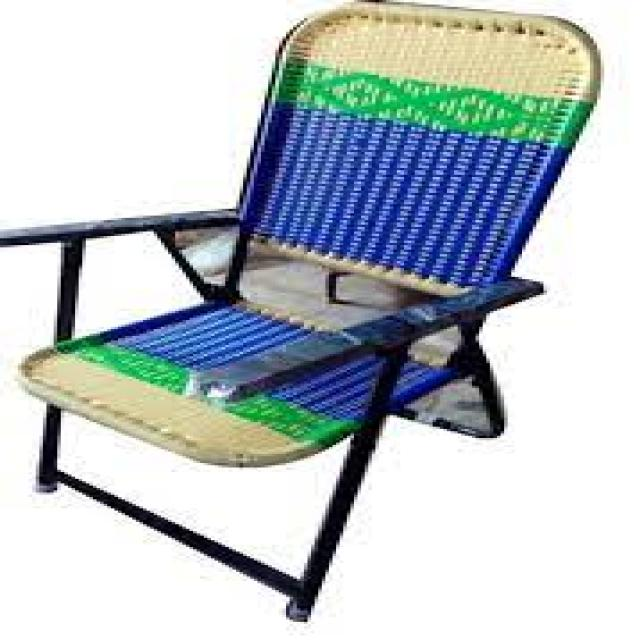chair: (3, 0, 620, 640)
